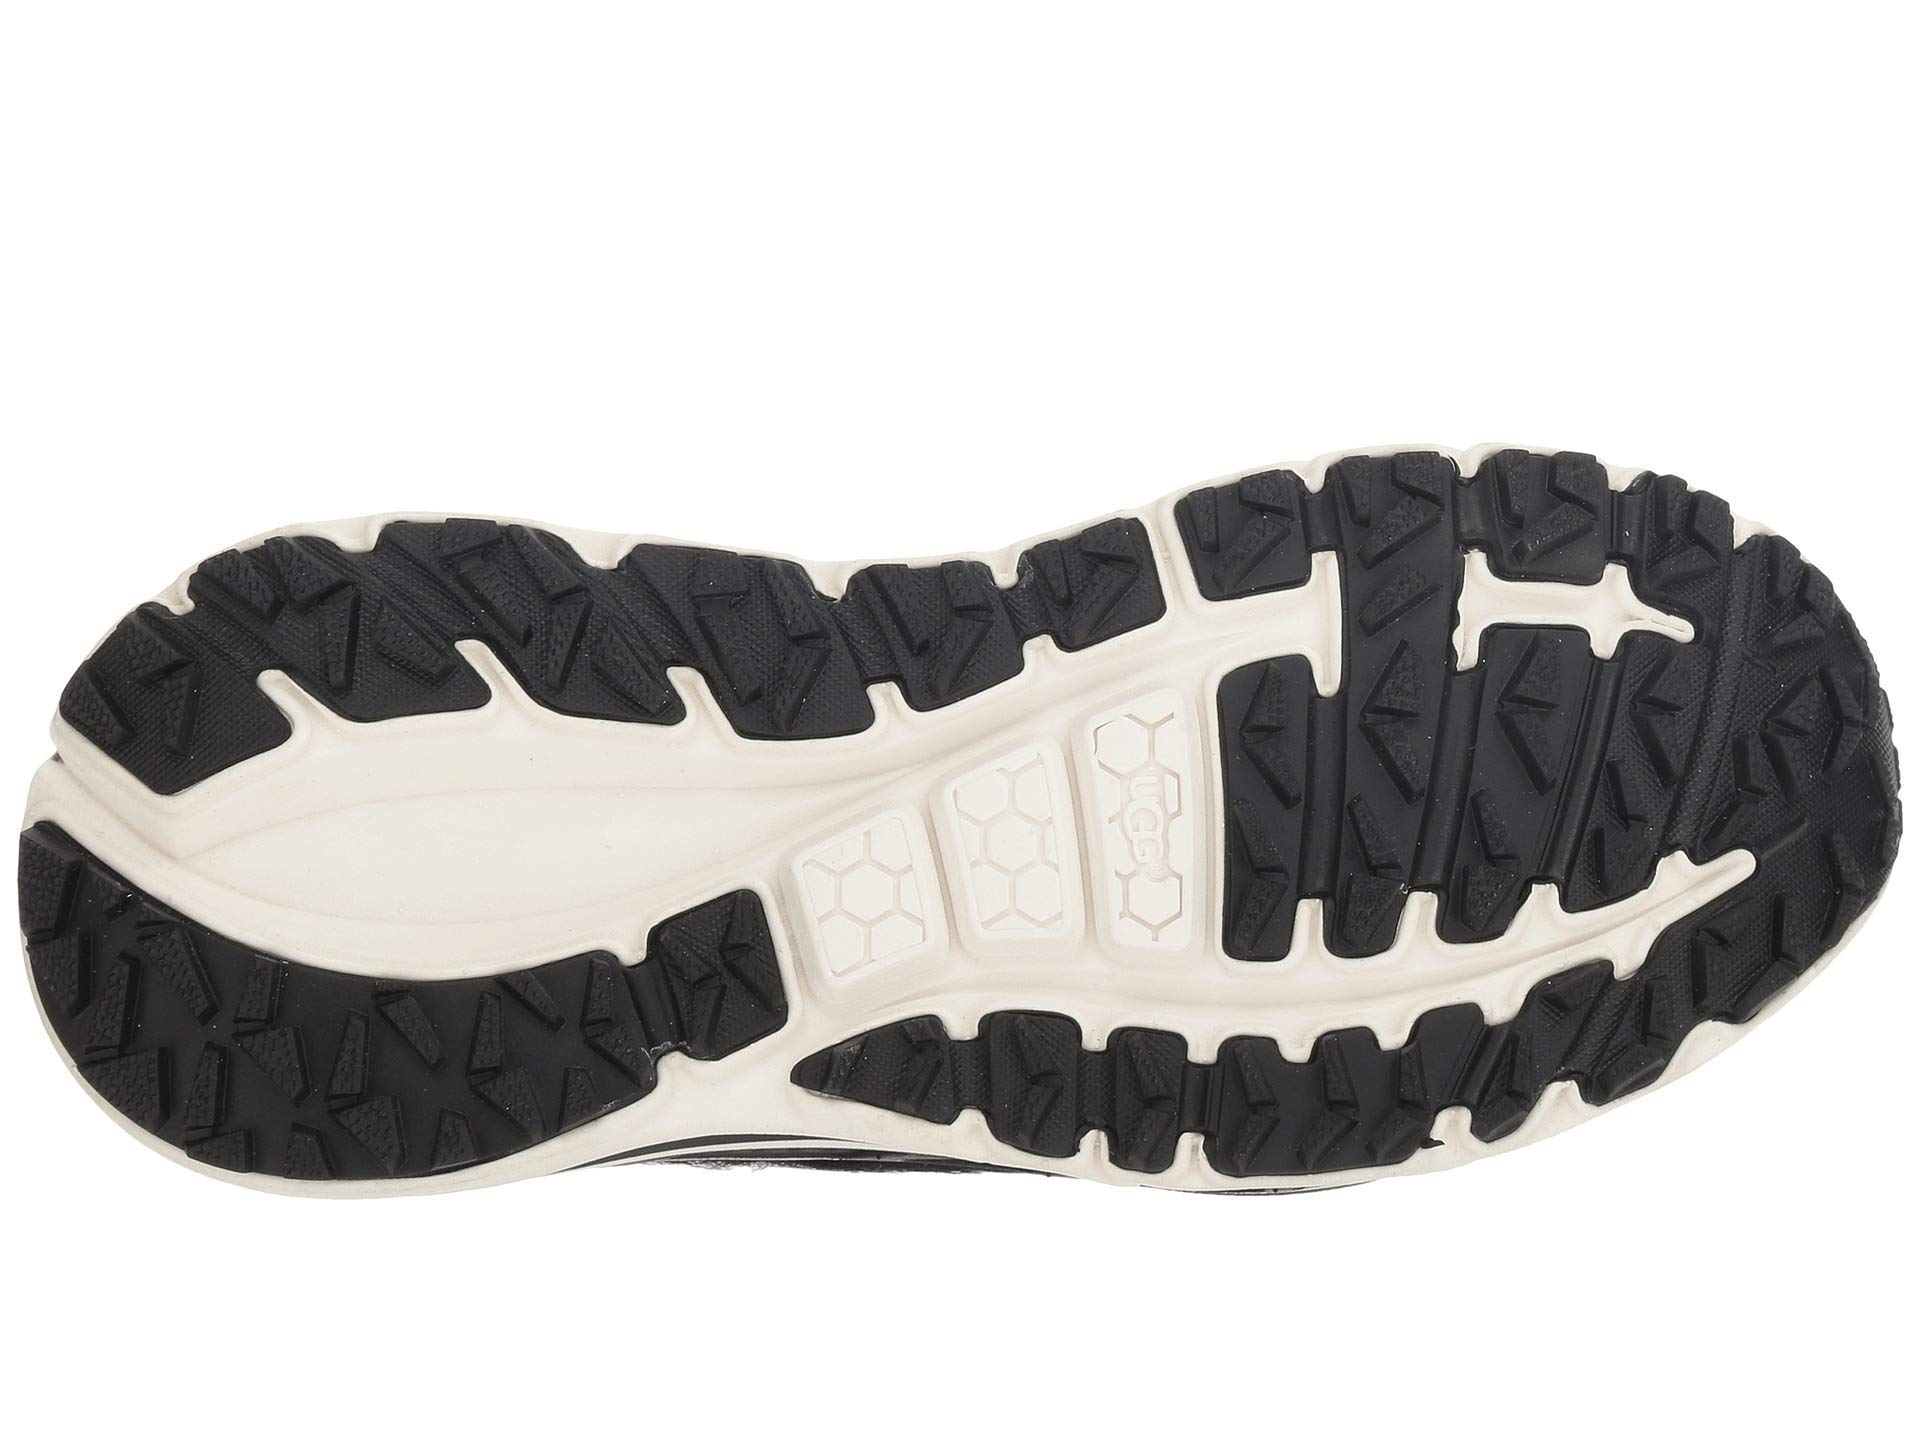polygon: (895, 734, 1113, 988), (818, 846, 904, 945)
quad: (1305, 628, 1516, 892), (895, 734, 1113, 988)
triangle: (1305, 628, 1516, 892)
